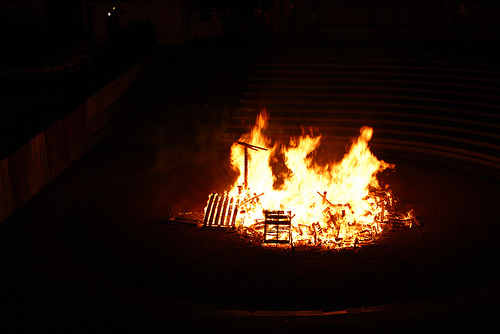fire: (215, 126, 396, 247)
